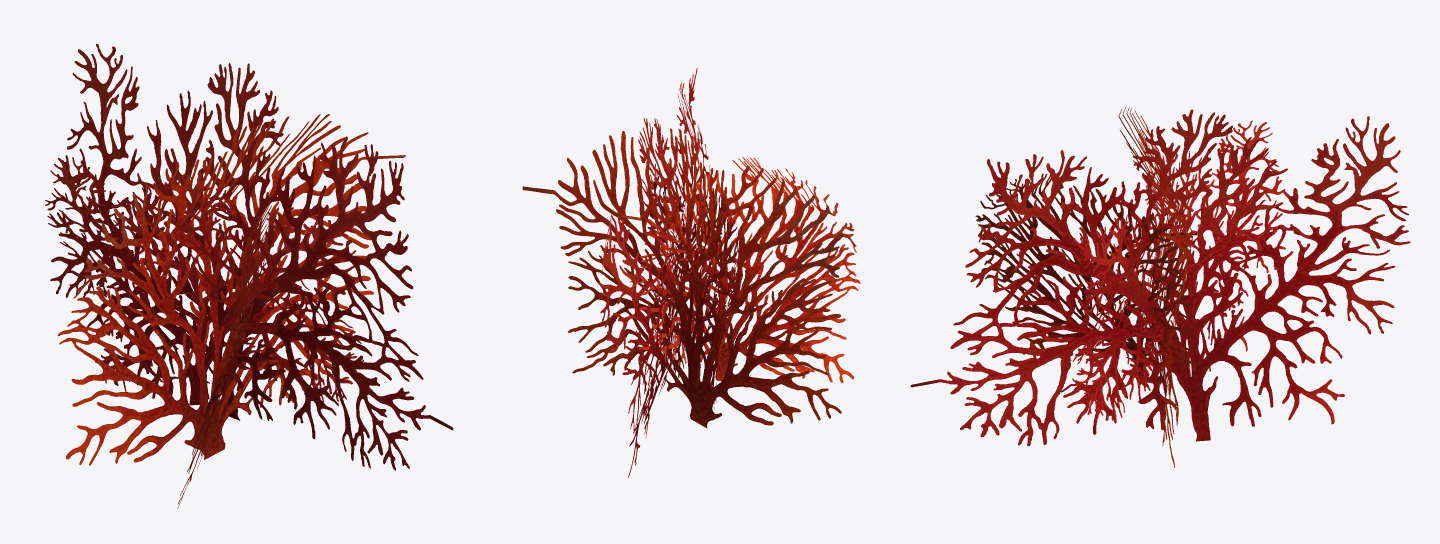
The picture shows the model from 3 angles, left to right: view 1: azimuth 30°, elevation 25°; view 2: azimuth 150°, elevation 25°; view 3: azimuth 270°, elevation 25°; orthographic projection. The views are drawn at different scales.
Visible parts, largest first — view 1: sc02; view 2: sc02; view 3: sc02.
Boxes of the visible parts, x1,y1,x2,y2 form: sc02: (45,43,453,508); sc02: (522,68,860,477); sc02: (910,106,1410,467).
Size of the model in its own units: 623 by 567 by 734.
